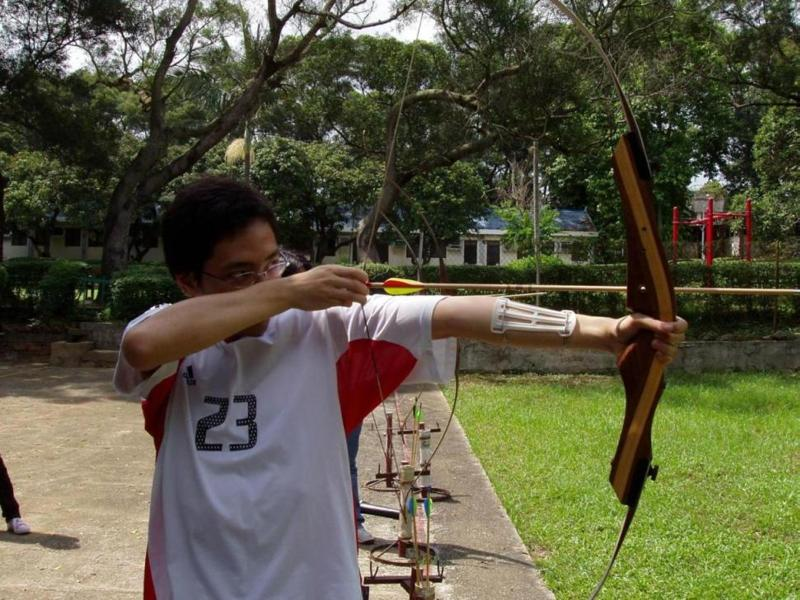person: (112, 175, 692, 598)
